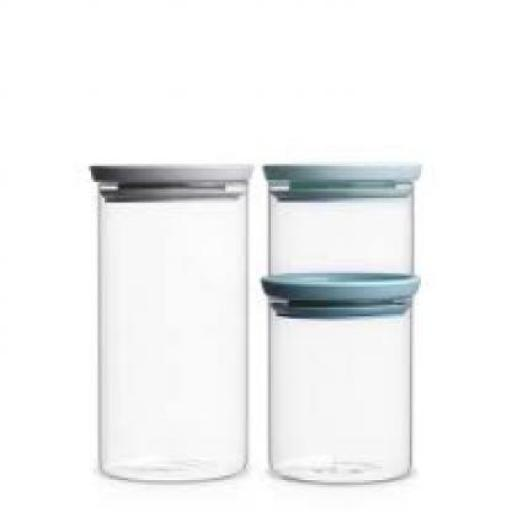glass: (95, 182, 243, 478), (269, 298, 412, 480), (267, 178, 414, 280)
plastic: (259, 274, 412, 296), (86, 164, 249, 184), (264, 161, 419, 182)
